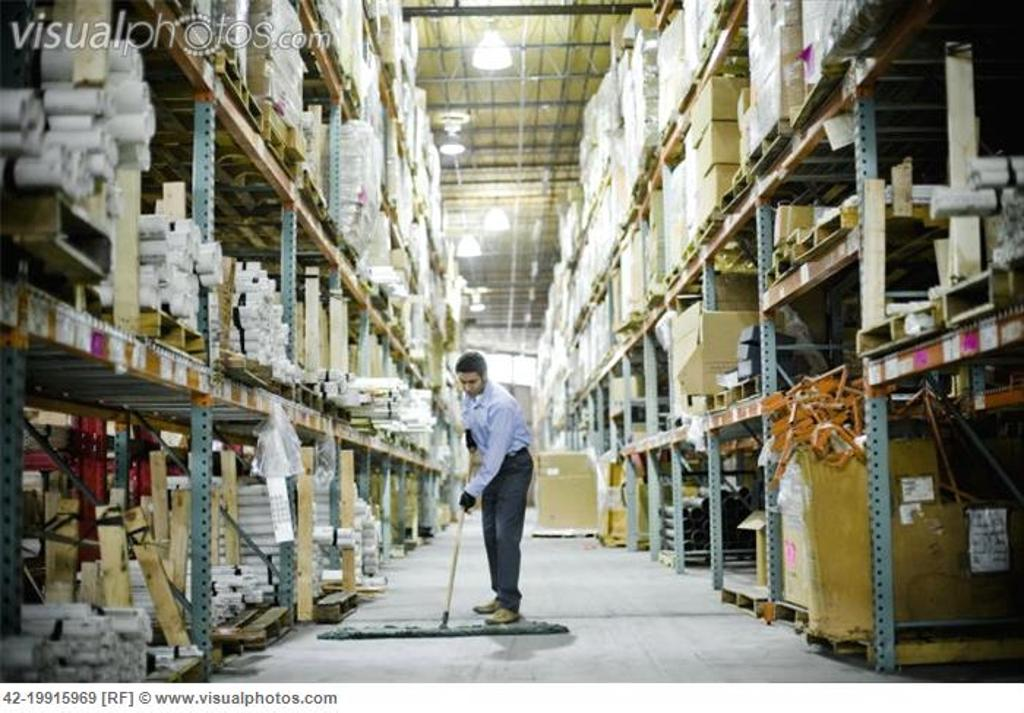face: (458, 371, 482, 394)
